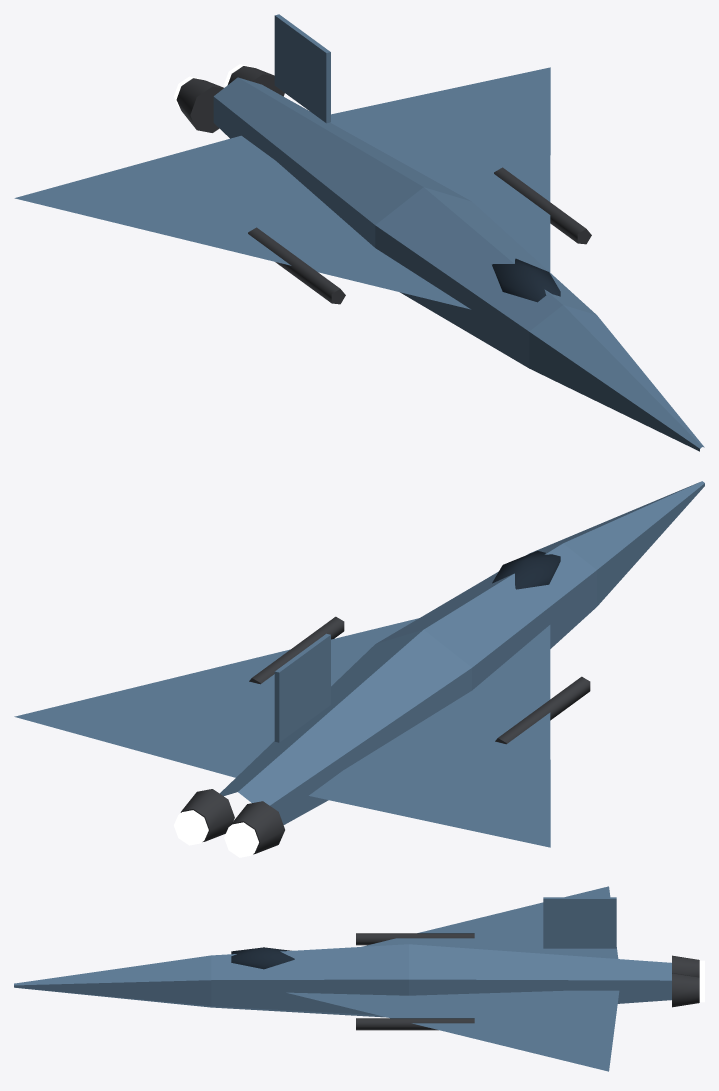
Rendered from space_ship_interceptor_mk6.glb.
The picture shows the model from 3 angles, top to bottom: view 1: azimuth 30°, elevation 25°; view 2: azimuth 150°, elevation 25°; view 3: azimuth 270°, elevation 25°; orthographic projection. The views are drawn at different scales.
Parts seen in each view (by area): view 1: body, engine_0, gun_r, gun_l, engine_1; view 2: body, engine_0, engine_1, gun_r, gun_l; view 3: body, gun_l, engine_1, gun_r, engine_0.
Part boxes in pixels (x1,y1,x2,y2): body: [14, 14, 704, 451]; engine_0: [173, 76, 223, 132]; gun_r: [248, 227, 345, 304]; gun_l: [494, 167, 591, 244]; engine_1: [224, 64, 284, 96]; body: [14, 481, 704, 847]; engine_0: [224, 801, 284, 857]; engine_1: [174, 789, 234, 845]; gun_r: [495, 676, 590, 744]; gun_l: [249, 616, 344, 684]; body: [14, 886, 671, 1071]; gun_l: [356, 1018, 474, 1030]; engine_1: [672, 973, 704, 1007]; gun_r: [356, 933, 474, 945]; engine_0: [672, 955, 704, 978].
Size of what is drawn, in the model's own units: 9.6 by 2.91 by 15.12.
